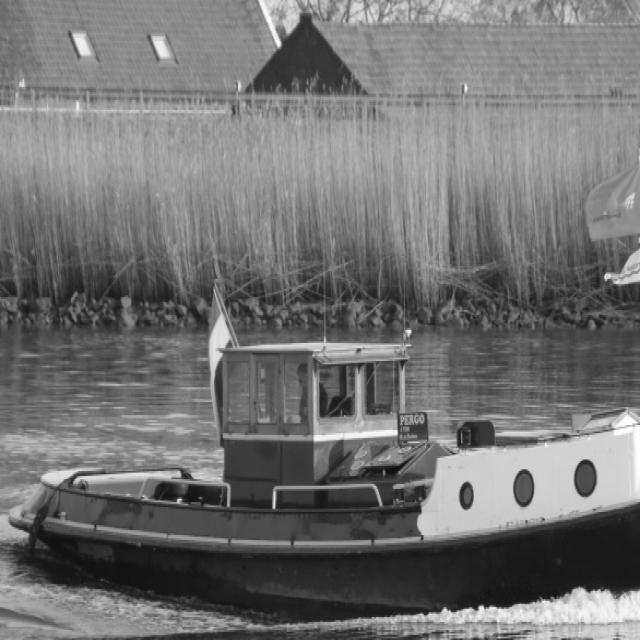tugboat: (4, 319, 640, 640)
